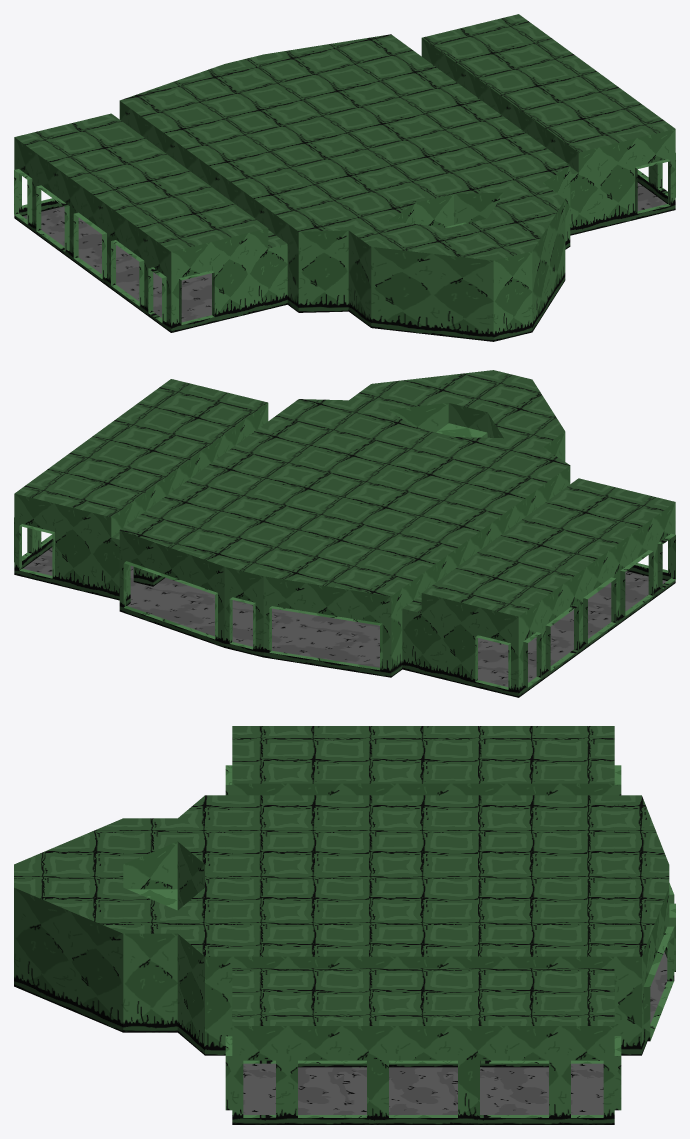
File: level1.glb
The picture shows the model from 3 angles, top to bottom: view 1: azimuth 30°, elevation 25°; view 2: azimuth 150°, elevation 25°; view 3: azimuth 270°, elevation 25°; orthographic projection. The views are drawn at different scales.
Visible parts, largest first — view 1: everything-col, wall-col, floor-col; view 2: everything-col, wall-col, floor-col; view 3: everything-col, wall-col, floor-col.
Part boxes in pixels (box(x1,y1,x2,y2)): everything-col: box(14, 14, 675, 260); wall-col: box(14, 38, 675, 341); floor-col: box(23, 182, 666, 322); everything-col: box(15, 370, 674, 616); wall-col: box(14, 403, 675, 697); floor-col: box(23, 547, 666, 686); everything-col: box(14, 726, 669, 1025); wall-col: box(14, 765, 675, 1124); floor-col: box(243, 952, 667, 1114).
Bounding box in the file's own units: 26.5 × 4 × 24.25.
3 materials, 3 textured.
